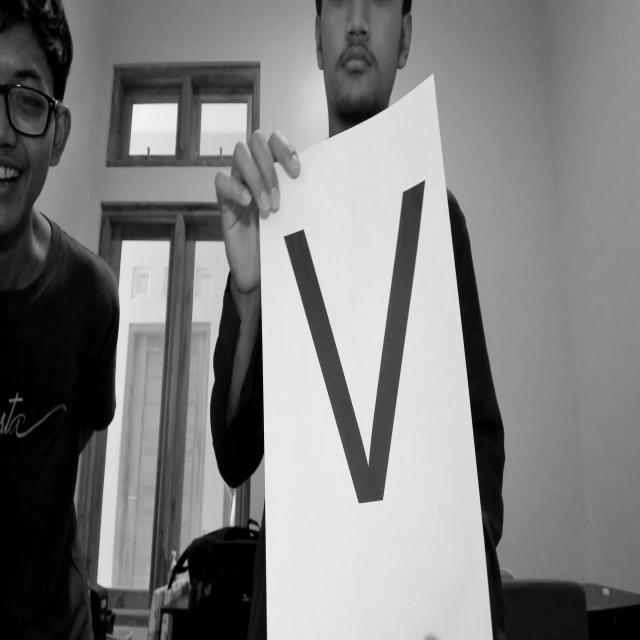v: (255, 167, 455, 532)
